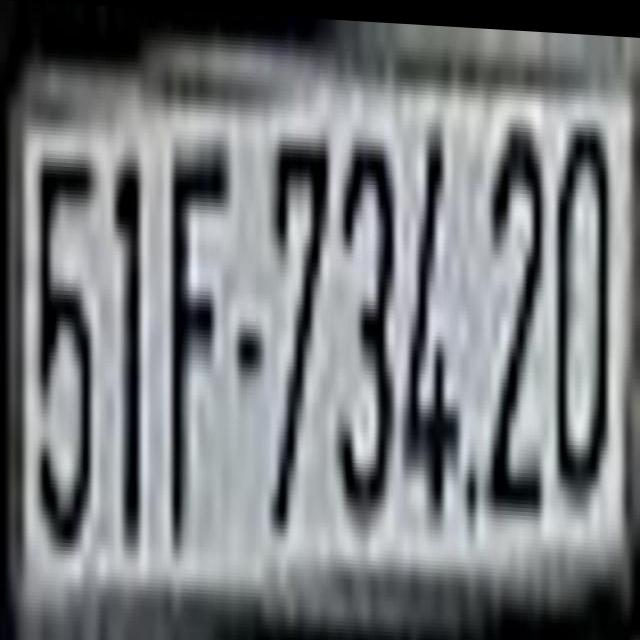0: (553, 103, 607, 486)
1: (115, 160, 147, 550)
2: (486, 124, 542, 510)
3: (344, 128, 392, 530)
4: (402, 100, 457, 526)
5: (38, 145, 92, 559)
7: (270, 121, 330, 531)
F: (170, 132, 230, 550)
